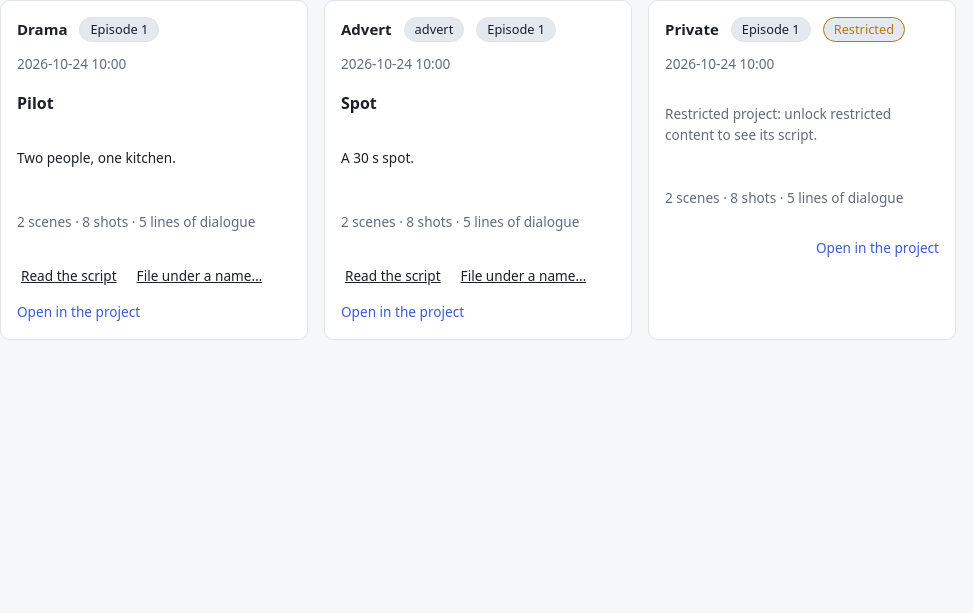
Test: project scripts in the library › files a script under a name, and asks before taking a name that is used
Expected: the heading "Spot" is shown, [341,92,377,114]
Click the button "File under a name…" below "A 30 s spot.": (523, 276) [457,262,590,290]
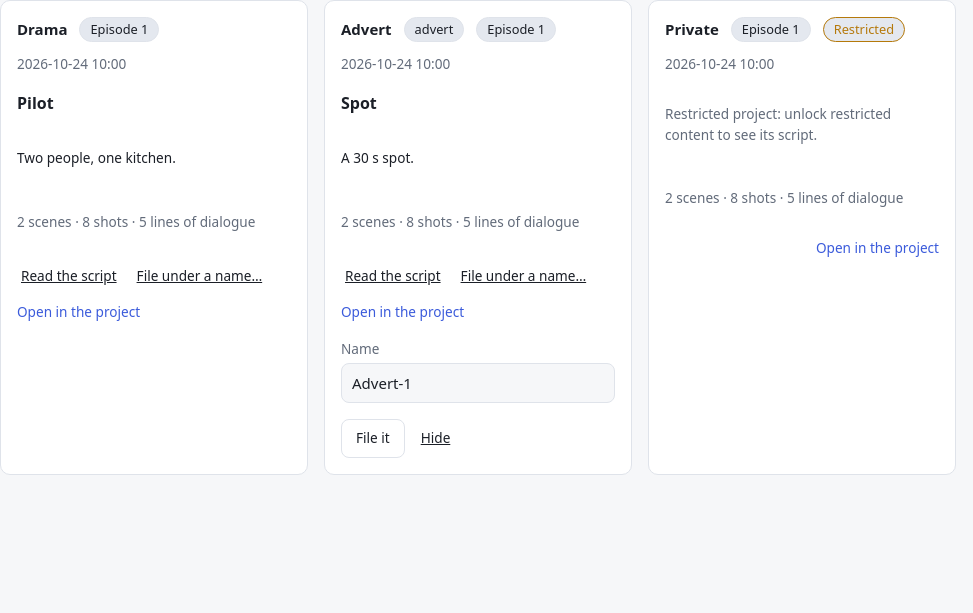
Click the button "File it": (373, 439) [341,419,405,458]
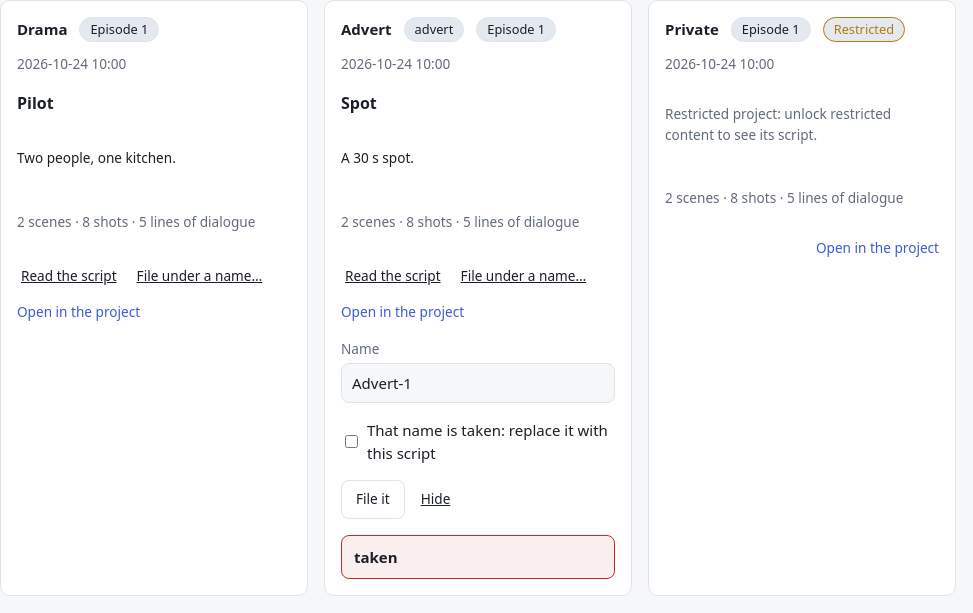
Click the checkbox labelled "That name is taken: replace it with this script": (352, 442) [345,435,358,448]
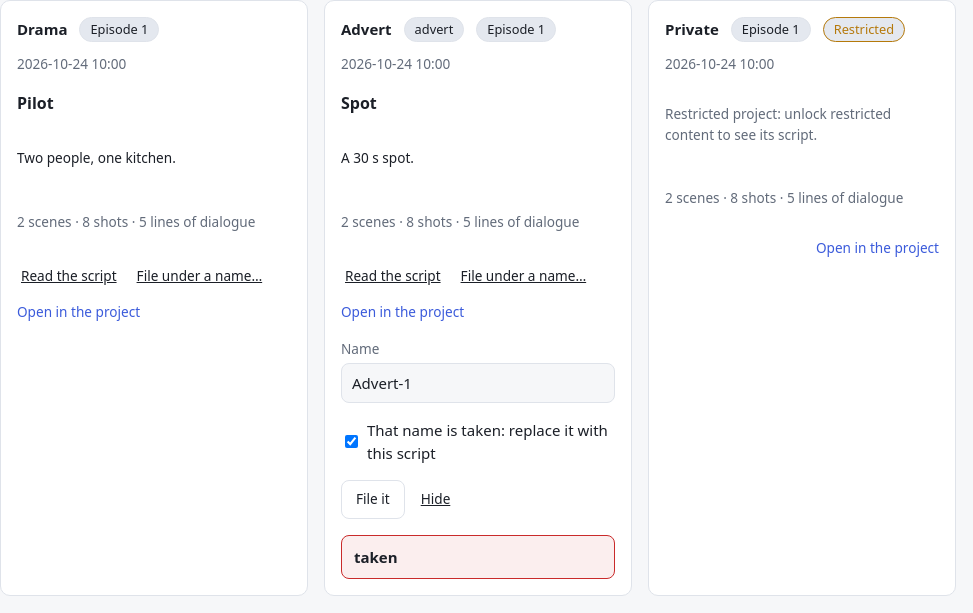
Click the button "File it": (373, 500) [341,480,405,519]
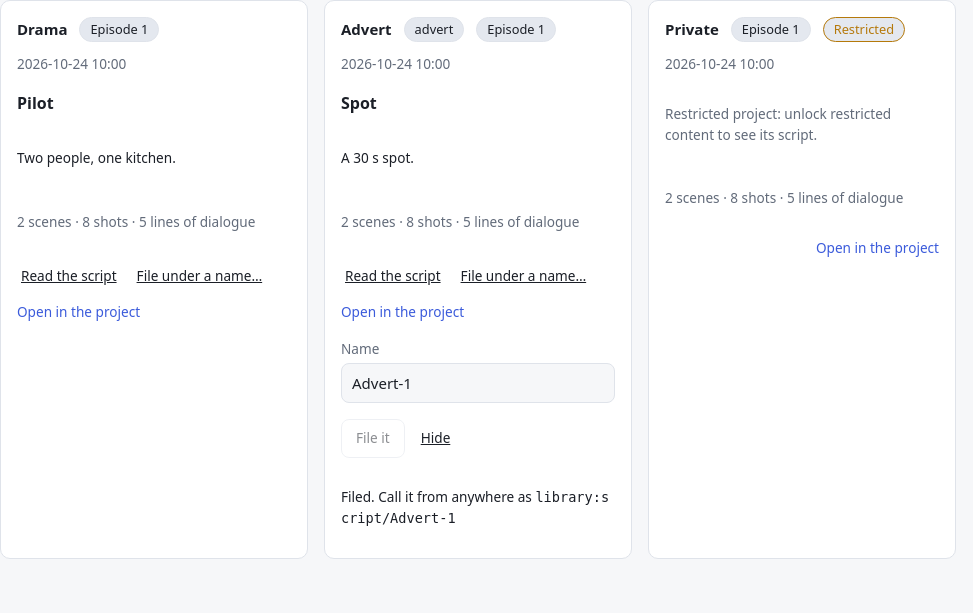
Result: the text "library:script/Advert-1" is shown at [341,489,609,526]
